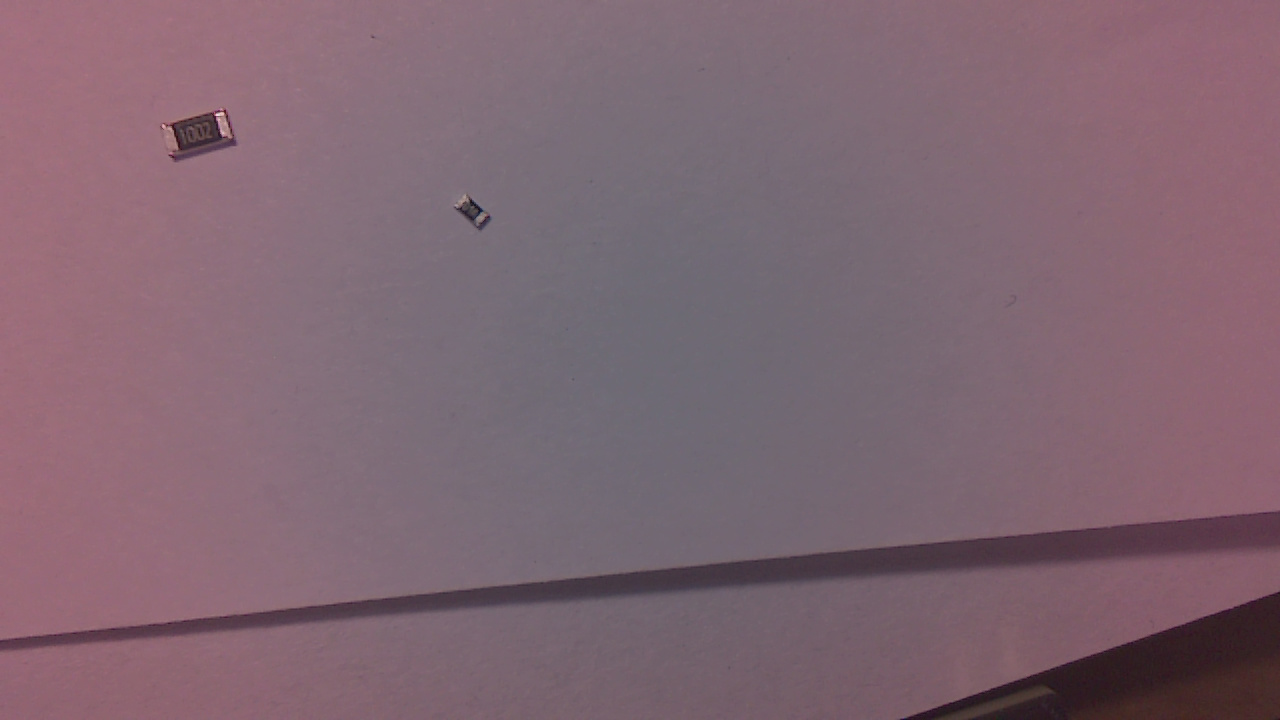Resistor: (166, 112, 241, 166), (458, 199, 500, 238)
